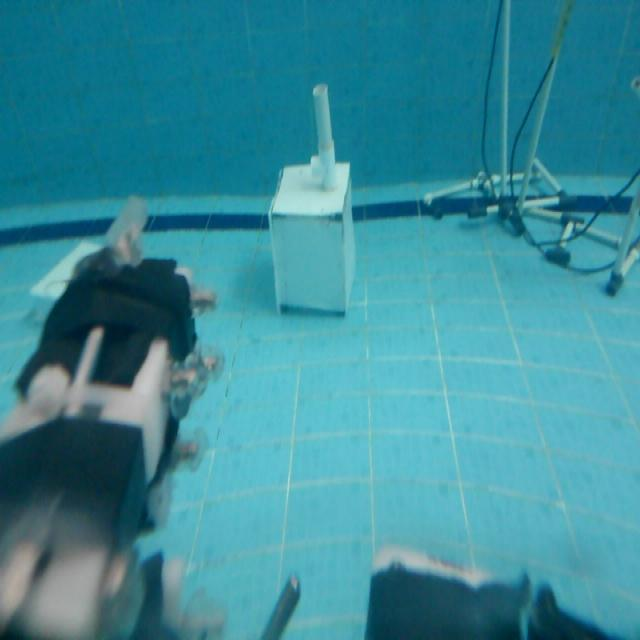Cube: (267, 156, 357, 317)
